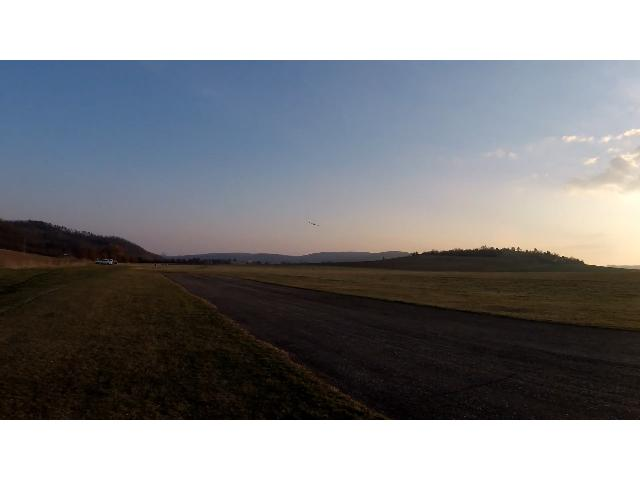Anti-Drone: (305, 217, 323, 231)
